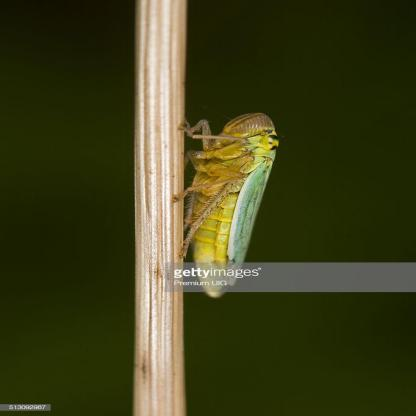Green-Leafhopper: (180, 110, 288, 300)
